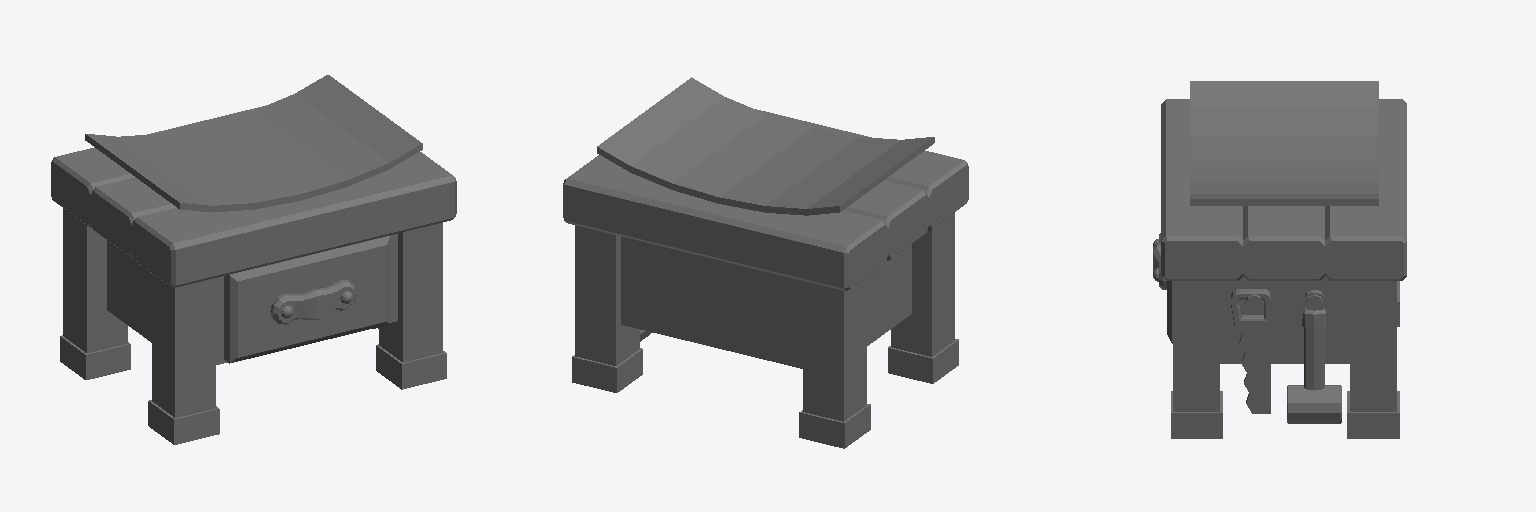
File: Workbench.obj
3 views of the same model, side by side, from view 1: azimuth 30°, elevation 25°; view 2: azimuth 150°, elevation 25°; view 3: azimuth 270°, elevation 25° (orthographic).
Visible parts, largest first — view 1: Workbench Bench_Leg, Bench_Body Workbench, Workbench BluePrint, Workbench Bench_Drawer, Workbench Drawe_Handle; view 2: Workbench Bench_Leg, Bench_Body Workbench, Workbench BluePrint; view 3: Bench_Body Workbench, Workbench BluePrint, Workbench Bench_Leg, Workbench Hammer, Workbench Saw.
Part boxes in pixels (bbox=[...]): Workbench Bench_Leg: bbox=[60, 208, 446, 444]; Bench_Body Workbench: bbox=[51, 106, 456, 287]; Workbench BluePrint: bbox=[85, 75, 422, 212]; Workbench Bench_Drawer: bbox=[224, 236, 389, 363]; Workbench Drawe_Handle: bbox=[270, 280, 355, 324]; Workbench Bench_Leg: bbox=[572, 213, 958, 448]; Bench_Body Workbench: bbox=[563, 109, 968, 290]; Workbench BluePrint: bbox=[597, 77, 934, 215]; Bench_Body Workbench: bbox=[1161, 99, 1406, 280]; Workbench BluePrint: bbox=[1190, 81, 1378, 205]; Workbench Bench_Leg: bbox=[1171, 276, 1399, 438]; Workbench Hammer: bbox=[1287, 290, 1341, 423]; Workbench Saw: bbox=[1231, 289, 1270, 413].
Bounding box in the file's own units: 2.71 × 2.1 × 2.09.